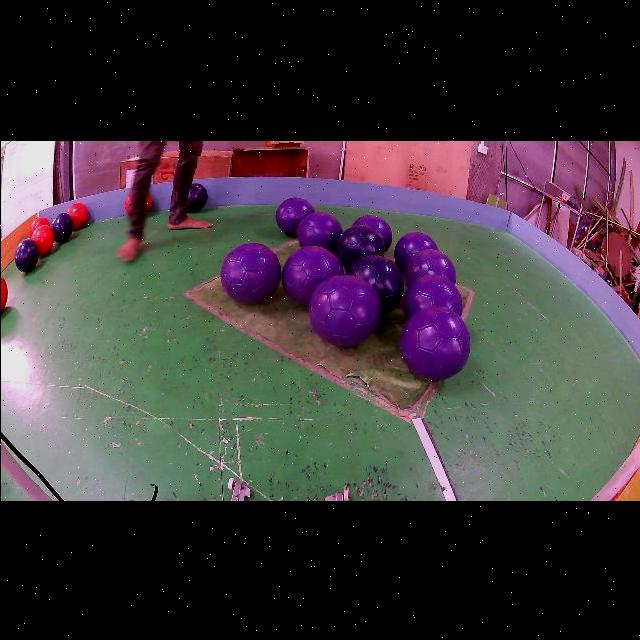B: (346, 254, 402, 313), (335, 224, 385, 266), (13, 238, 39, 272), (50, 211, 72, 241), (188, 182, 206, 211)
P: (399, 305, 469, 380), (309, 274, 381, 345), (281, 245, 342, 306), (219, 242, 279, 304), (402, 274, 461, 319), (404, 249, 455, 285), (296, 211, 341, 251), (393, 231, 437, 268), (275, 196, 314, 235), (351, 214, 391, 250)
R: (30, 224, 54, 255), (65, 201, 86, 228), (29, 216, 49, 235), (0, 276, 6, 311)
